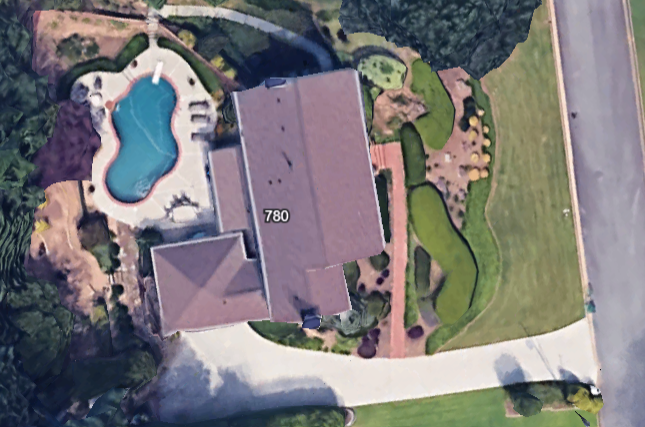driveway: (153, 291, 598, 424)
